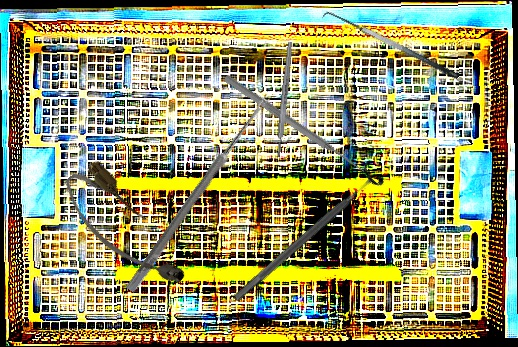Cannula: (54, 155, 195, 304)
Fixation Ring: (224, 159, 389, 311)
Pusher: (222, 73, 367, 176)
Scalpel Handle: (275, 41, 294, 158)
Spatula Surgical: (320, 4, 460, 91)
Surgical Spoon: (125, 93, 271, 295)
